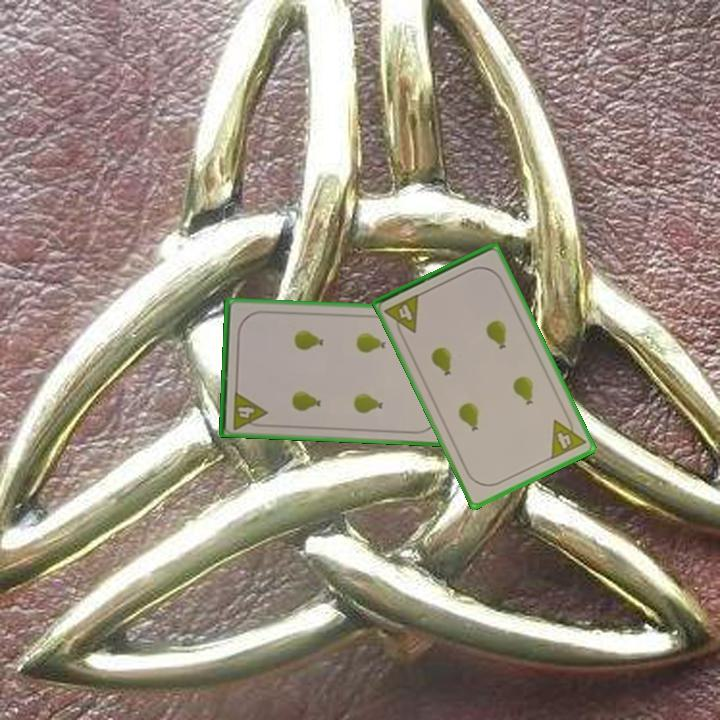4p: (547, 411, 589, 462), (381, 290, 423, 340), (229, 388, 269, 432)
